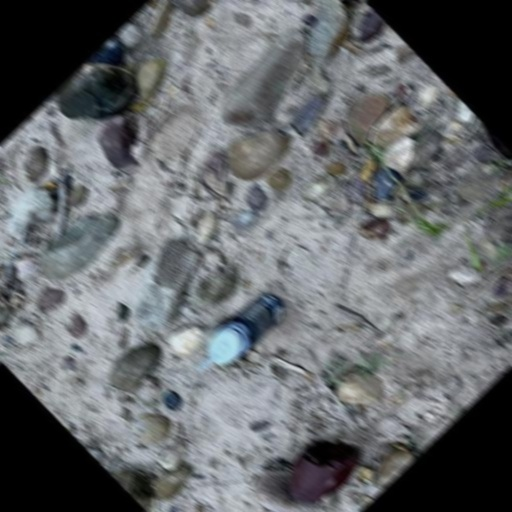bottle: (197, 278, 300, 380)
